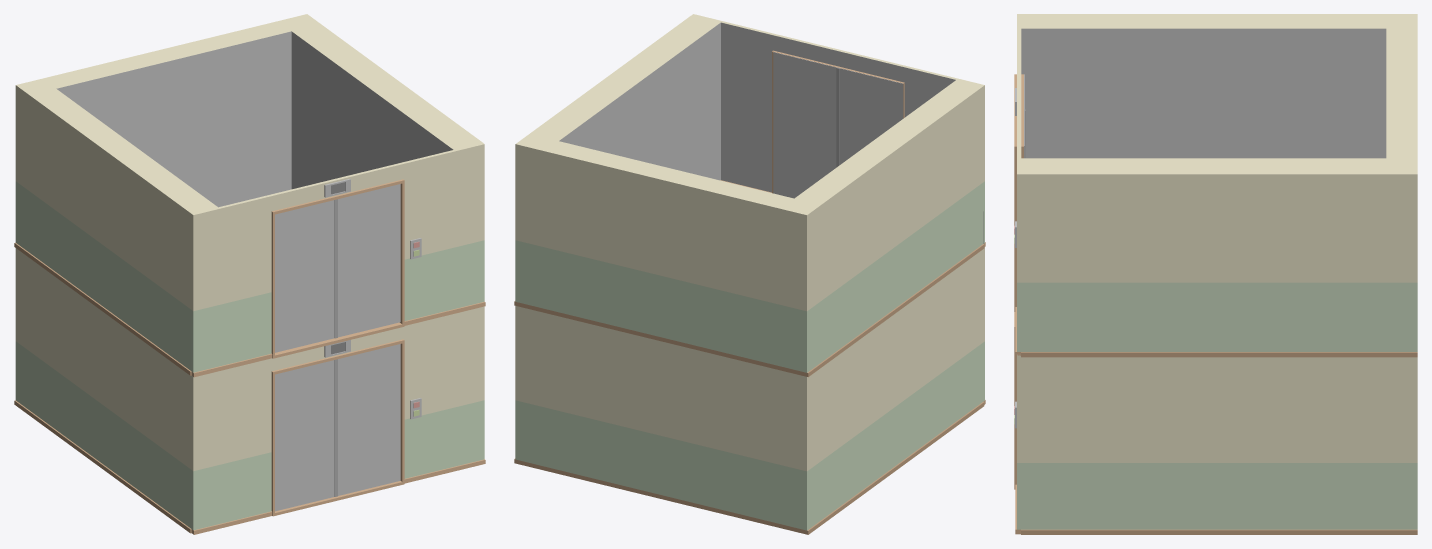
File: elevator_2.fbx
3 views of the same model, side by side, from view 1: azimuth 30°, elevation 25°; view 2: azimuth 150°, elevation 25°; view 3: azimuth 270°, elevation 25° (orthographic). The views are drawn at different scales.
Parts seen in each view (by area): view 1: Boole_5, Cube_16, Cube_16_2, Cube_12, Cube_12_2; view 2: Boole_5, Cube_16, Cube_12; view 3: Boole_5.
Part boxes in pixels (x1=…): Boole_5: x1=14, y1=14, x2=485, y2=534; Cube_16: x1=334, y1=184, x2=400, y2=338; Cube_16_2: x1=334, y1=344, x2=400, y2=496; Cube_12: x1=275, y1=200, x2=337, y2=352; Cube_12_2: x1=275, y1=360, x2=337, y2=511; Boole_5: x1=514, y1=14, x2=985, y2=534; Cube_16: x1=773, y1=52, x2=839, y2=198; Cube_12: x1=836, y1=68, x2=903, y2=166; Boole_5: x1=1014, y1=14, x2=1417, y2=534.
Size of the model in its own units: 173 by 179 by 182.
